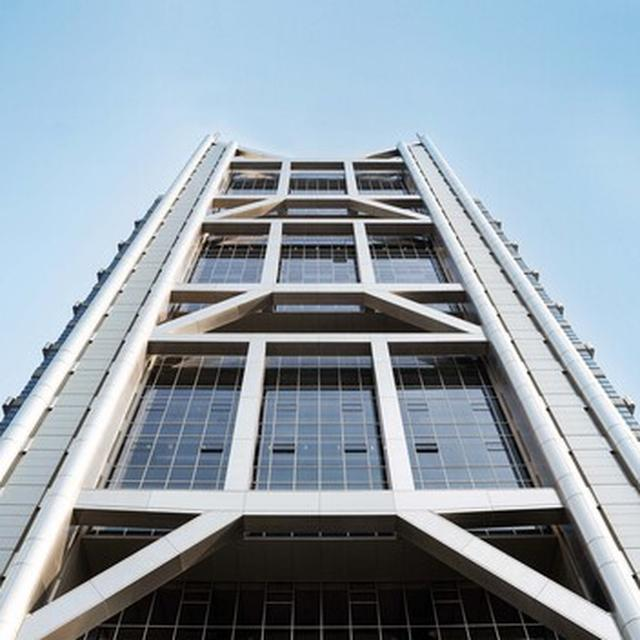building: (13, 132, 640, 640)
